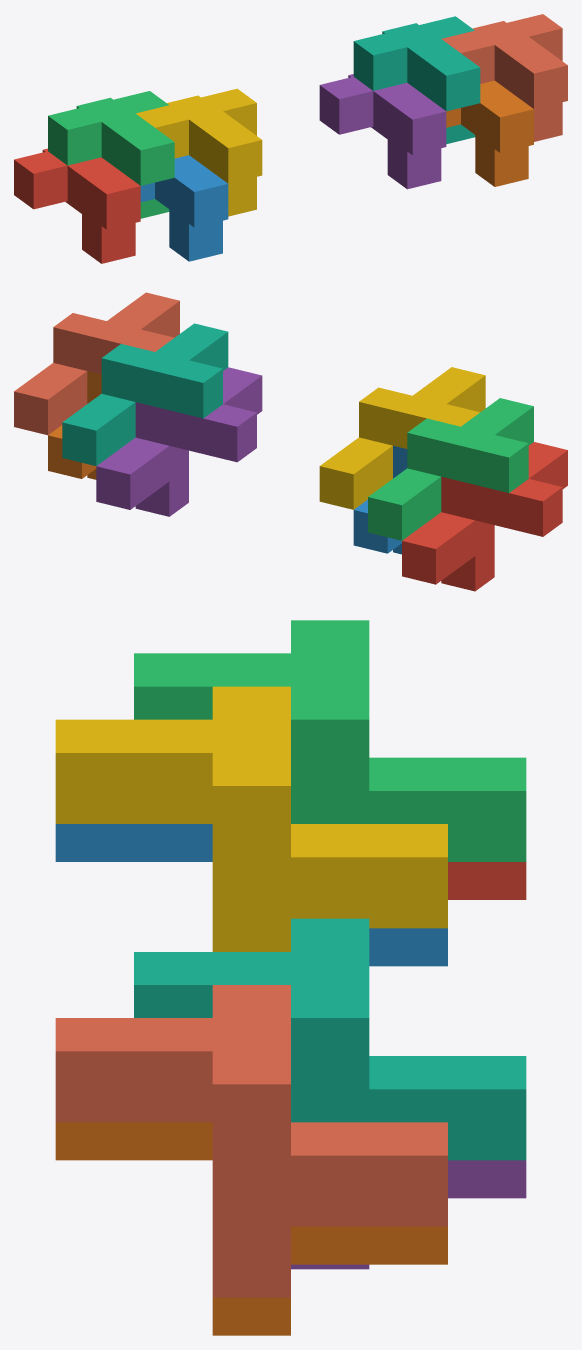
File: tiling.obj
The picture shows the model from 3 angles, top to bottom: view 1: azimuth 30°, elevation 25°; view 2: azimuth 150°, elevation 25°; view 3: azimuth 270°, elevation 25°; orthographic projection. The views are drawn at different scales.
Parts seen in each view (by area): view 1: copy_1_domain_5, copy_1_domain_1, copy_1_domain_7, copy_1_domain_3, copy_1_domain_4, copy_1_domain_8, copy_1_domain_2, copy_1_domain_6; view 2: copy_1_domain_7, copy_1_domain_3, copy_1_domain_1, copy_1_domain_5, copy_1_domain_4, copy_1_domain_8, copy_1_domain_6, copy_1_domain_2; view 3: copy_1_domain_8, copy_1_domain_4, copy_1_domain_3, copy_1_domain_7, copy_1_domain_6, copy_1_domain_2, copy_1_domain_5, copy_1_domain_1.
Part boxes in pixels (bbox=[...]): copy_1_domain_5: bbox=[319, 74, 446, 189]; copy_1_domain_1: bbox=[14, 148, 140, 263]; copy_1_domain_7: bbox=[353, 16, 480, 144]; copy_1_domain_3: bbox=[48, 91, 174, 218]; copy_1_domain_4: bbox=[136, 88, 262, 216]; copy_1_domain_8: bbox=[441, 14, 567, 141]; copy_1_domain_2: bbox=[140, 155, 228, 261]; copy_1_domain_6: bbox=[446, 80, 533, 186]; copy_1_domain_7: bbox=[62, 323, 228, 465]; copy_1_domain_3: bbox=[368, 398, 533, 540]; copy_1_domain_1: bbox=[402, 442, 567, 591]; copy_1_domain_5: bbox=[96, 367, 262, 516]; copy_1_domain_4: bbox=[319, 367, 485, 509]; copy_1_domain_8: bbox=[14, 292, 179, 435]; copy_1_domain_6: bbox=[48, 371, 101, 479]; copy_1_domain_2: bbox=[353, 445, 407, 554]; copy_1_domain_8: bbox=[55, 985, 447, 1297]; copy_1_domain_4: bbox=[55, 686, 447, 951]; copy_1_domain_3: bbox=[134, 620, 526, 861]; copy_1_domain_7: bbox=[134, 918, 526, 1160]; copy_1_domain_6: bbox=[55, 1122, 447, 1335]; copy_1_domain_2: bbox=[55, 824, 447, 966]; copy_1_domain_5: bbox=[291, 1160, 526, 1269]; copy_1_domain_1: bbox=[448, 862, 526, 899].
Size of the model in its own units: 15 by 4 by 6.
